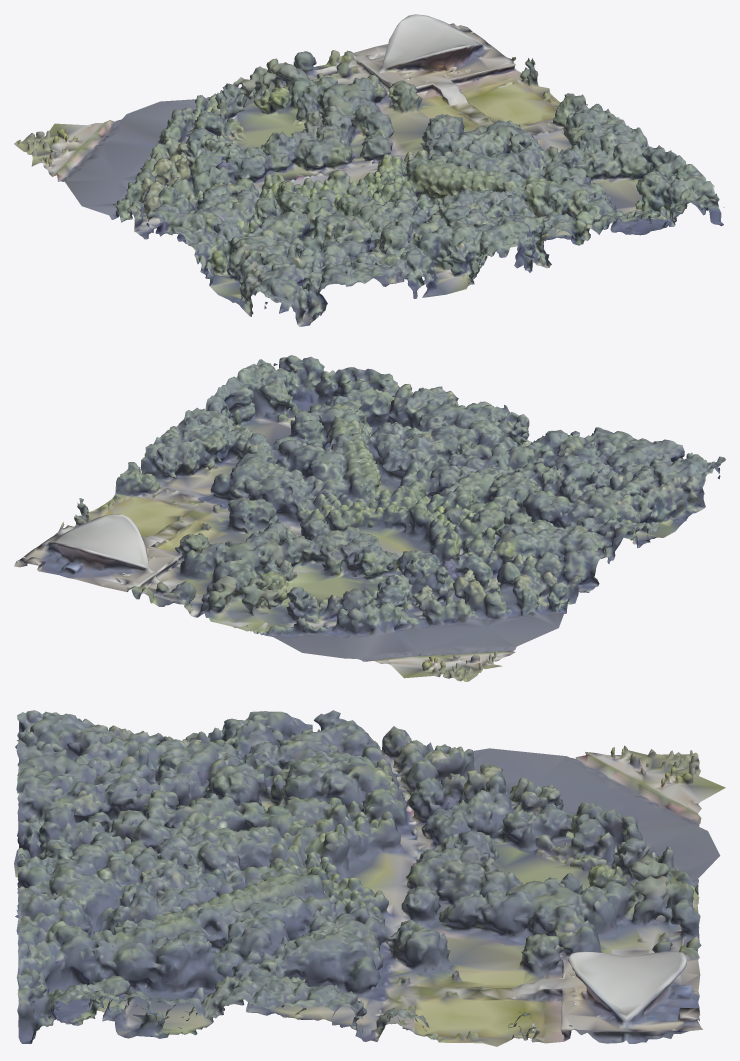
File: tile-3887_58196.glb
3 renders of one model, top to bottom at view 1: azimuth 30°, elevation 25°; view 2: azimuth 150°, elevation 25°; view 3: azimuth 270°, elevation 25°, orthographic. The views are drawn at different scales.
Visible parts, largest first — view 1: world; view 2: world; view 3: world.
Boxes of the visible parts, box(x1,y1,x2,y2) form: world: box(14, 14, 723, 326); world: box(14, 355, 725, 681); world: box(14, 710, 725, 1046).
Bounding box in the file's own units: 376 × 33.81 × 378.
